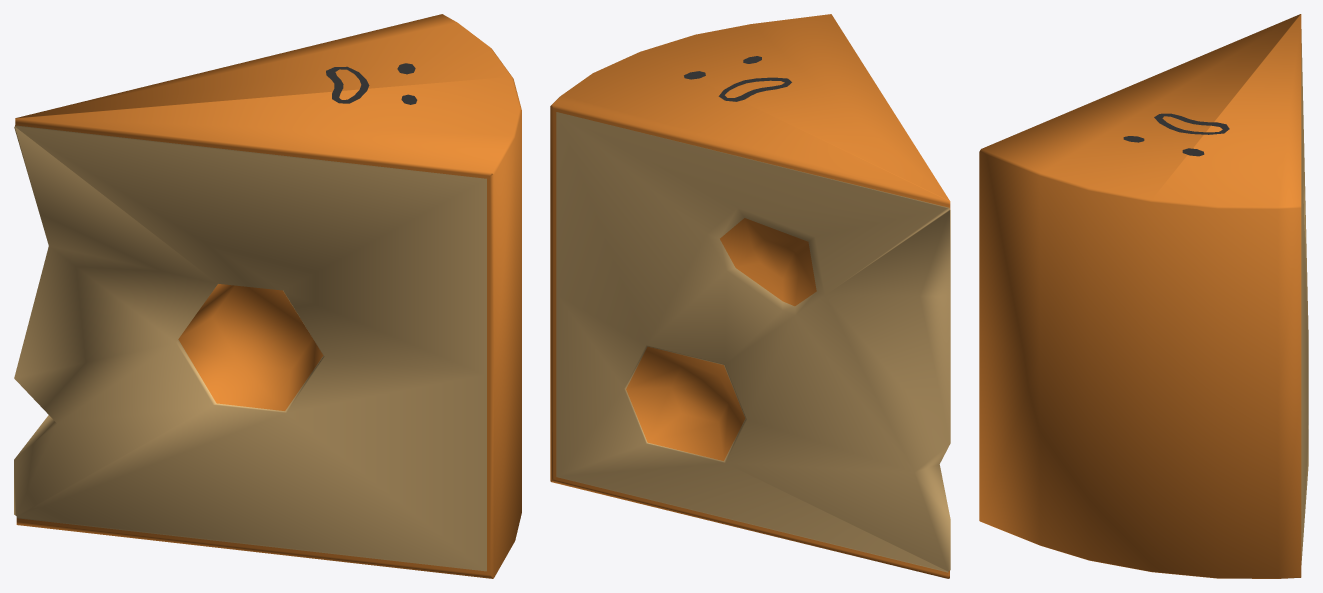
Rendered from props.fbx_item_cheese.fbx.
The picture shows the model from 3 angles, left to right: view 1: azimuth 30°, elevation 25°; view 2: azimuth 150°, elevation 25°; view 3: azimuth 270°, elevation 25°; orthographic projection. The views are drawn at different scales.
Visible parts, largest first — view 1: item_cheese; view 2: item_cheese; view 3: item_cheese.
Part boxes in pixels (x1,y1,x2,y2): item_cheese: (14,14,521,578); item_cheese: (550,14,950,578); item_cheese: (979,14,1308,578).
Size of the model in its own units: 101 by 92.74 by 72.3.
